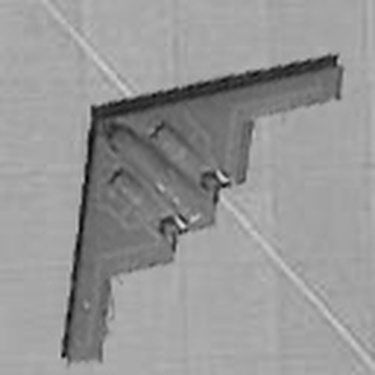airplane: (65, 55, 348, 367)
